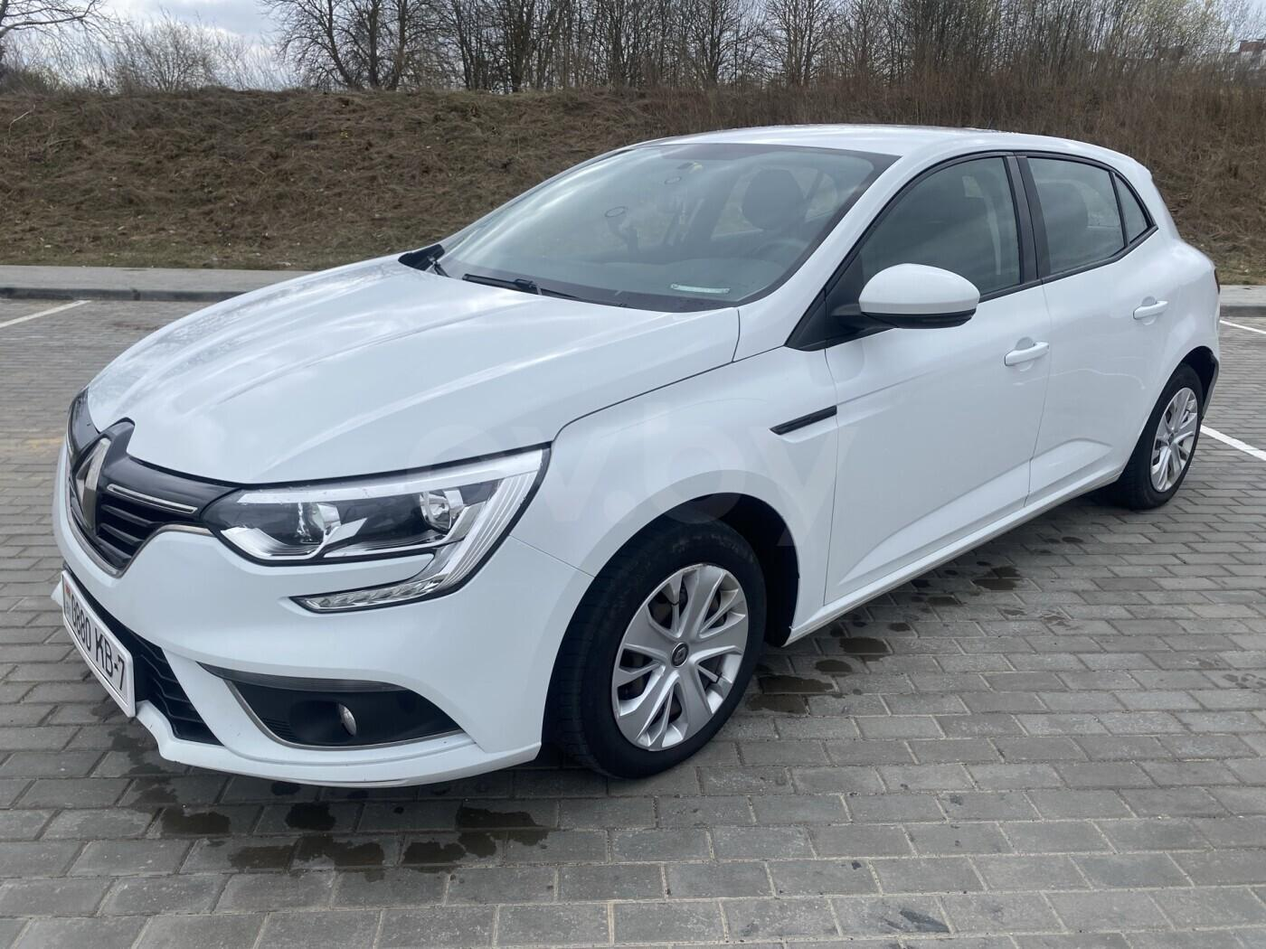Megane_2016-2020: (49, 119, 1241, 832)
